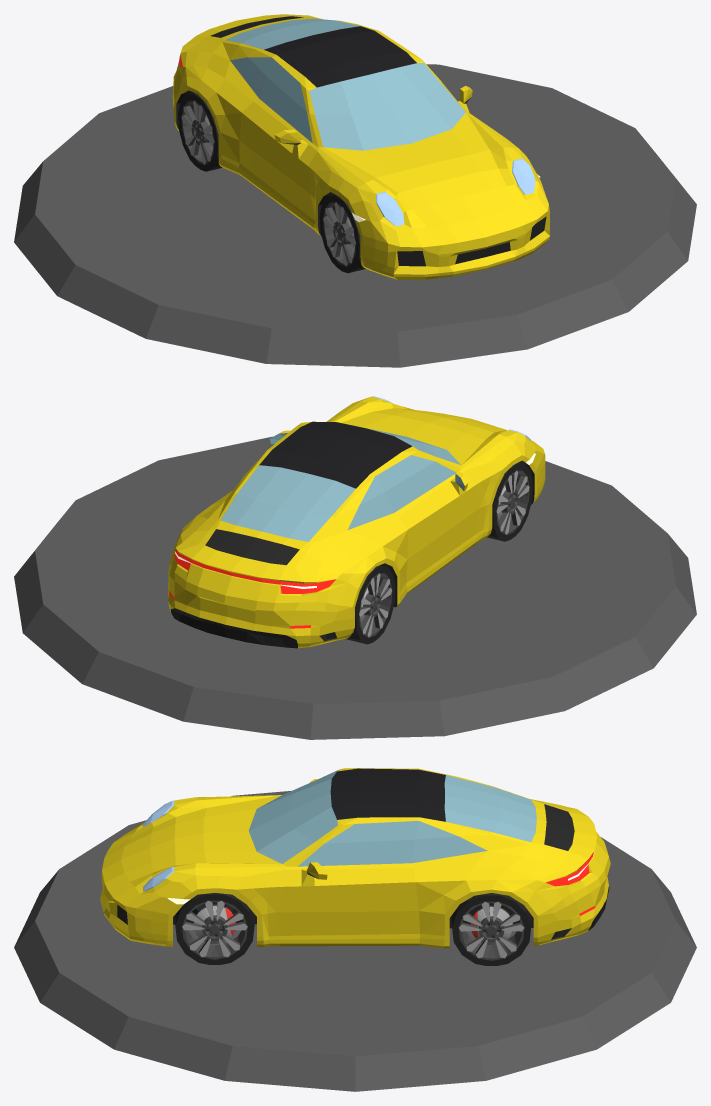
The picture shows the model from 3 angles, top to bottom: view 1: azimuth 30°, elevation 25°; view 2: azimuth 150°, elevation 25°; view 3: azimuth 270°, elevation 25°; orthographic projection.
Parts seen in each view (by area): view 1: Platform, Body, FR_Wheel, RR_Wheel; view 2: Platform, Body, RR_Wheel, FR_Wheel; view 3: Platform, Body, RL_Wheel, FL_Wheel.
Part boxes in pixels (bbox=[...]): Platform: bbox=[14, 64, 696, 367]; Body: bbox=[172, 14, 549, 279]; FR_Wheel: bbox=[319, 194, 365, 273]; RR_Wheel: bbox=[178, 92, 222, 171]; Platform: bbox=[14, 436, 696, 739]; Body: bbox=[168, 396, 545, 648]; RR_Wheel: bbox=[345, 565, 395, 644]; FR_Wheel: bbox=[487, 463, 532, 541]; Platform: bbox=[14, 791, 696, 1091]; Body: bbox=[100, 768, 610, 948]; RL_Wheel: bbox=[452, 893, 531, 965]; FL_Wheel: bbox=[175, 893, 254, 964].
Bounding box in the file's own units: 569 × 146 × 569.
